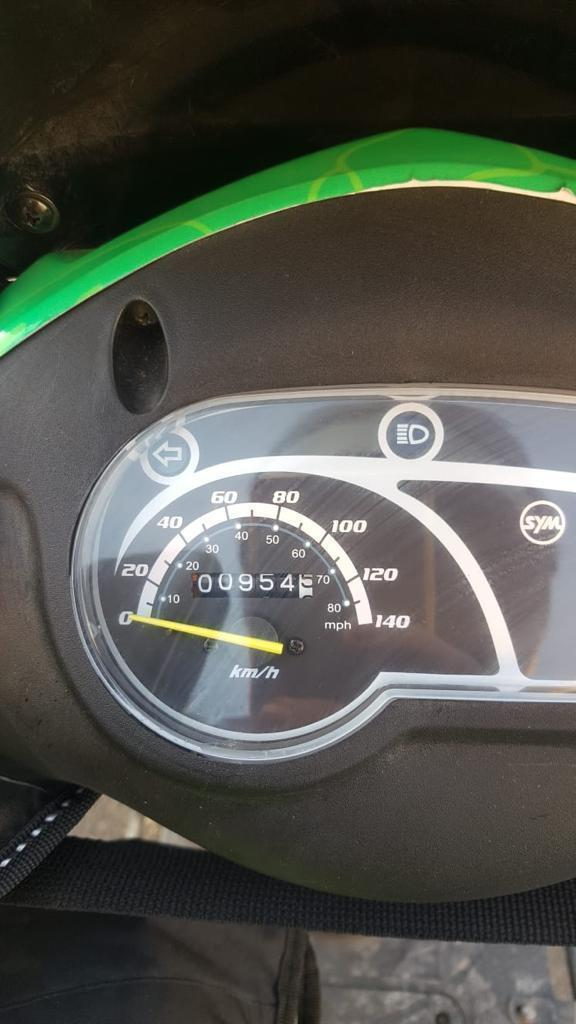0: (196, 572, 213, 594), (216, 571, 233, 592)
4: (278, 572, 295, 592)
5: (258, 571, 274, 591), (300, 571, 314, 588)
9: (237, 571, 253, 593)
odometer: (188, 569, 316, 602)
